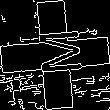M_W: (27, 30, 83, 80)
